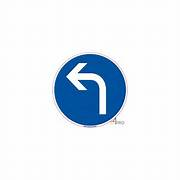left: (53, 52, 127, 127)
